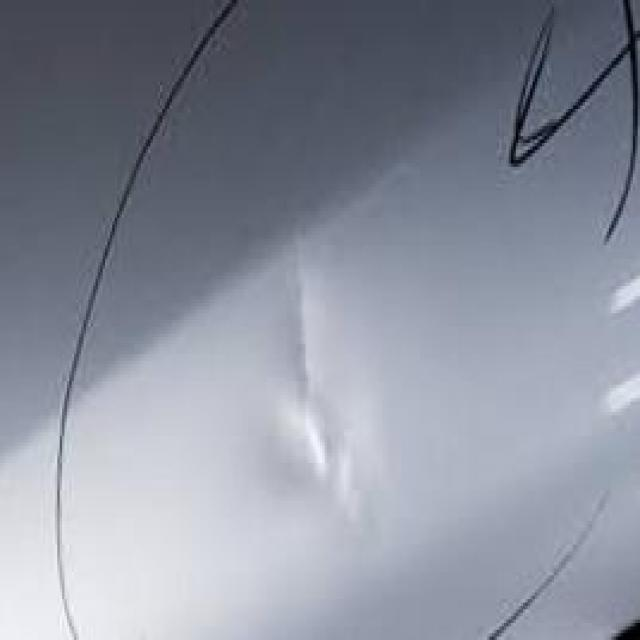dent: (270, 202, 360, 530)
